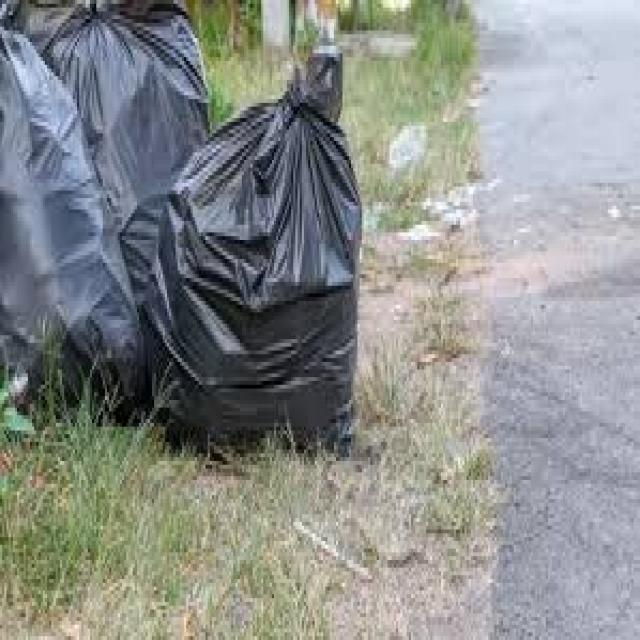plastic_bag: (153, 58, 367, 447), (3, 9, 151, 405), (80, 5, 198, 386)
